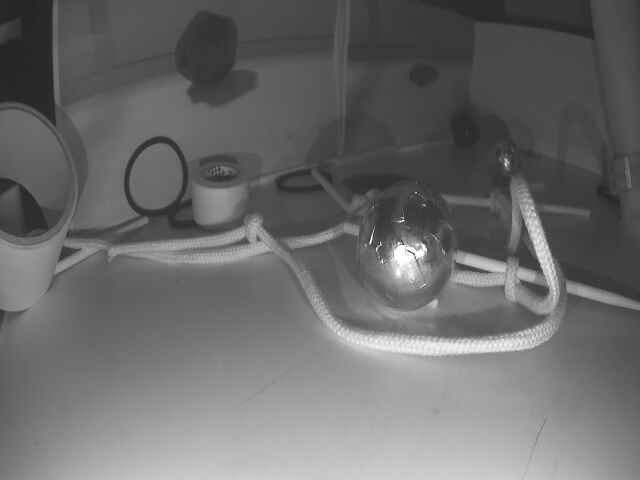Dead: (455, 114, 479, 143)
Live: (356, 177, 456, 311), (492, 138, 521, 185)
